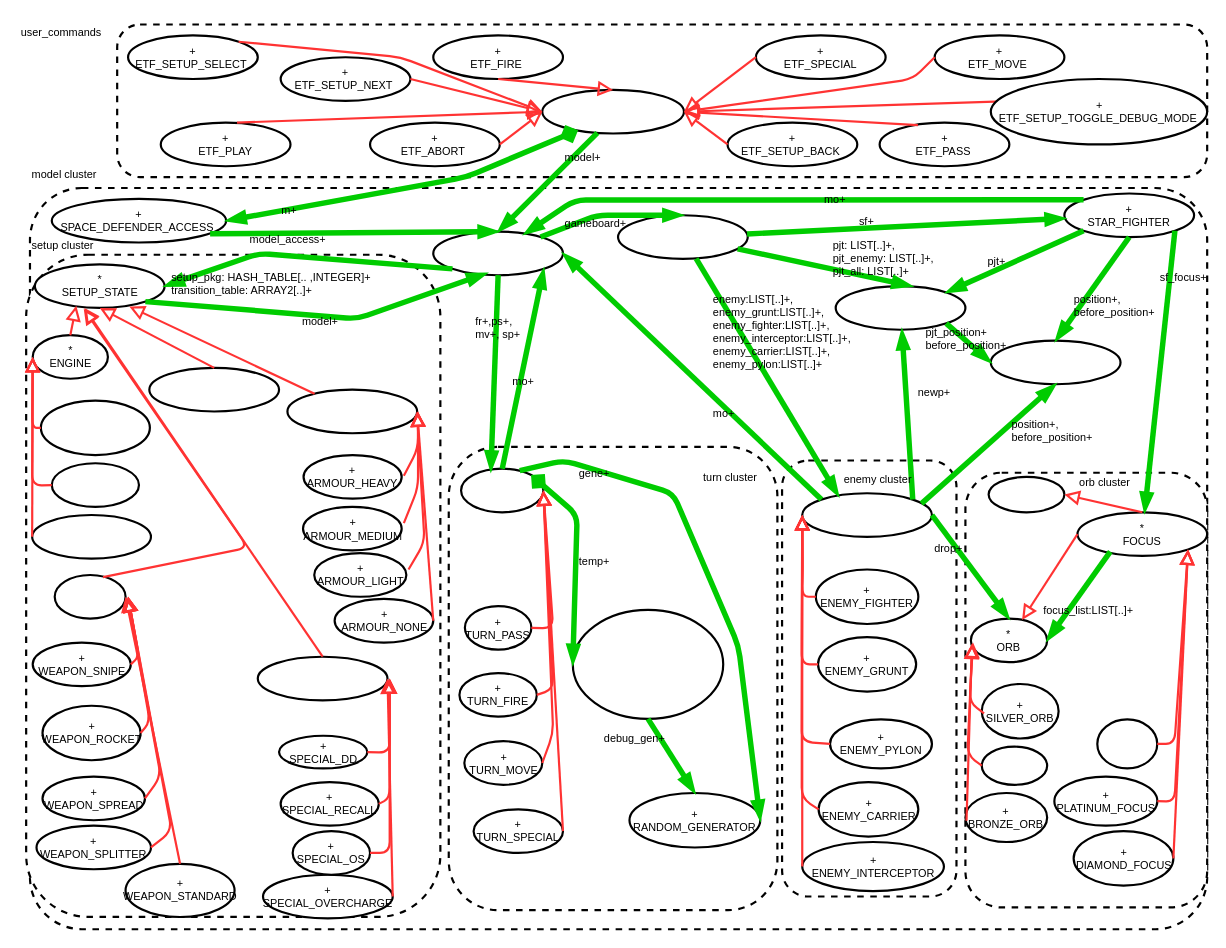
Image size: 1226x948. Some labels were removed from this diagram. Here are the shapes that lost their labels. From the top down, the centre of each, then its label:
(x=613, y=111): * ETF_COMMAND
(x=498, y=253): + SPACE_DEFENDER
(x=682, y=236): + GAMEBOARD
(x=900, y=307): + PROJECTILE
(x=1055, y=362): + POSITION
(x=214, y=389): + SETUP_SUMMARY
(x=94, y=427): + ENGINE_AMOURED
(x=352, y=411): * ARMOUR
(x=95, y=484): + ENGINE_LIGHT
(x=501, y=490): * TURN
(x=1026, y=494): * COMPOSITE
(x=866, y=514): * ENEMIES
(x=91, y=536): + ENGINE_STANDARD
(x=89, y=596): * WEAPON
(x=322, y=678): * SPECIALS
(x=647, y=663): + RANDOM_GENERATOR_ACCESS
(x=1127, y=743): + SF_FOCUS
(x=1014, y=765): + GOLD_ORB
